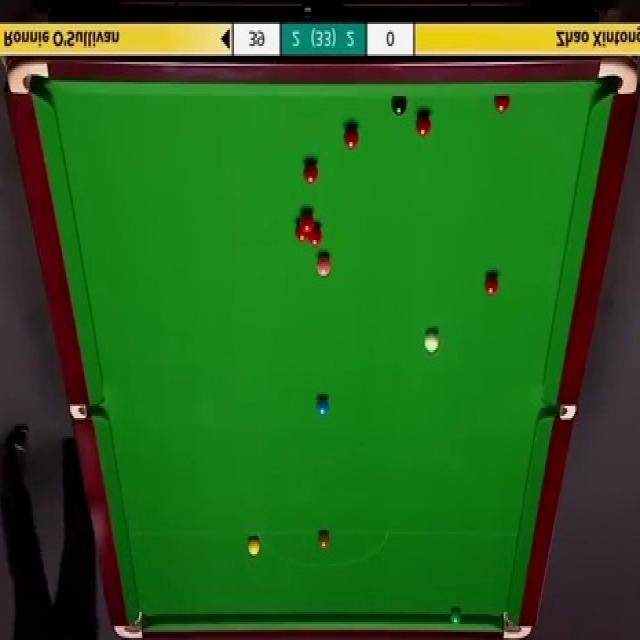black-ball: (392, 95, 410, 115)
blue-ball: (317, 394, 331, 416)
brown-ball: (318, 532, 330, 552)
green-ball: (450, 610, 460, 628)
pink-ball: (318, 255, 330, 278)
red-ball: (415, 110, 432, 136), (343, 127, 359, 153), (300, 207, 314, 235), (306, 224, 322, 248), (302, 161, 318, 185), (484, 271, 498, 296), (494, 96, 511, 114), (296, 222, 309, 245)
white-ball: (424, 331, 440, 352)
yellow-ball: (247, 538, 259, 554)
